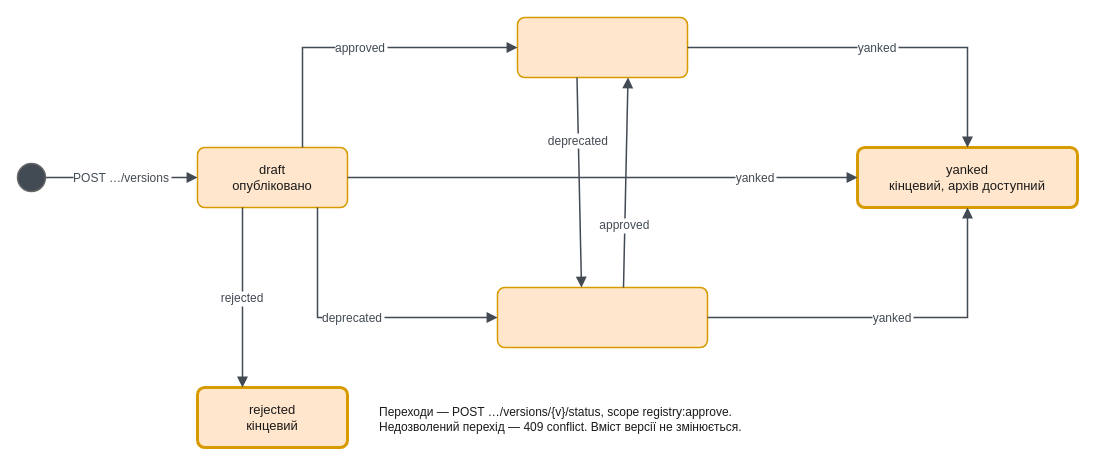
This 1097x467 diagram has some shape labels left out. The shapes that lost their labels are listed below. From the top down, each one's box as (x1, y1, x2, y2) in pixels, then its label:
(516, 16, 688, 78): approved можна активувати
(496, 286, 708, 348): deprecated не для нових прив'язок
